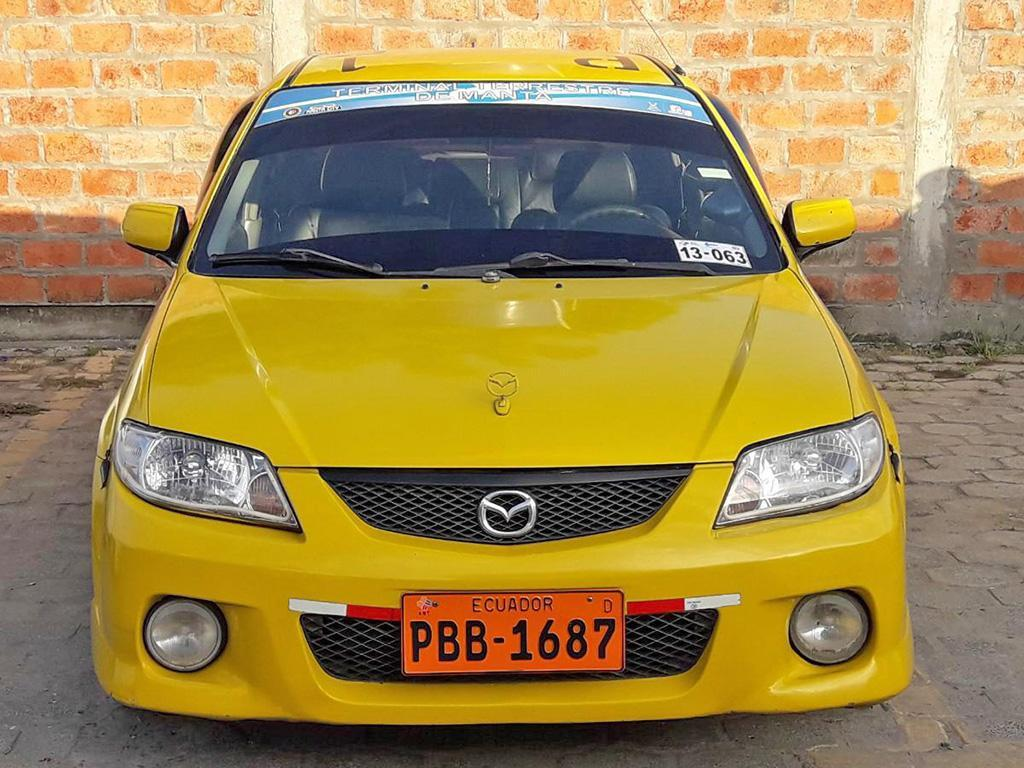taxi: (70, 4, 1024, 768)
